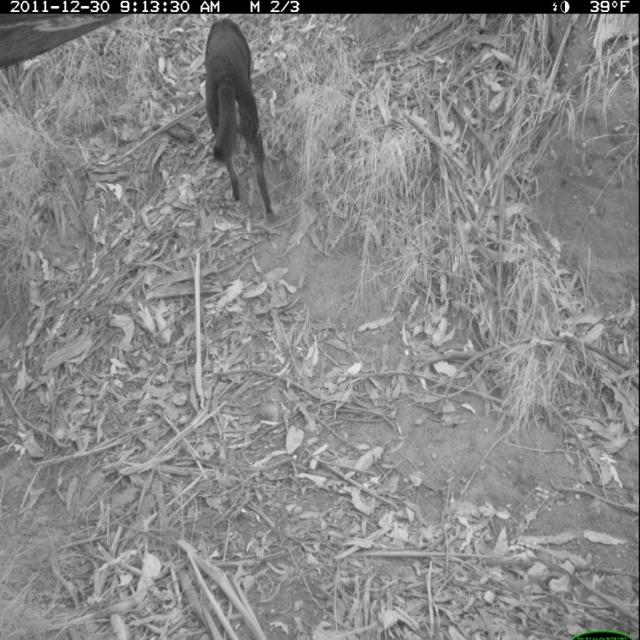dog: (193, 8, 282, 240)
